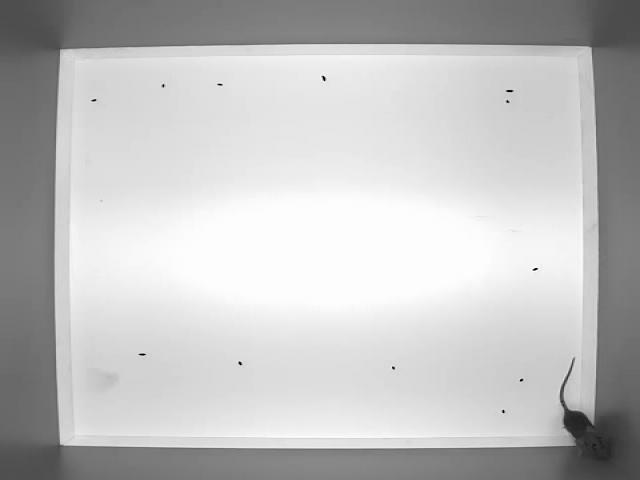Tikus: (560, 356, 611, 459)
